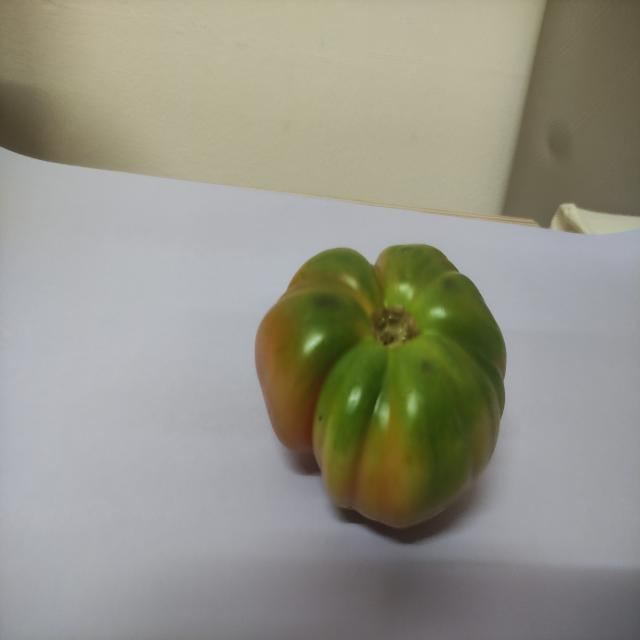yesil: (242, 218, 523, 538)
